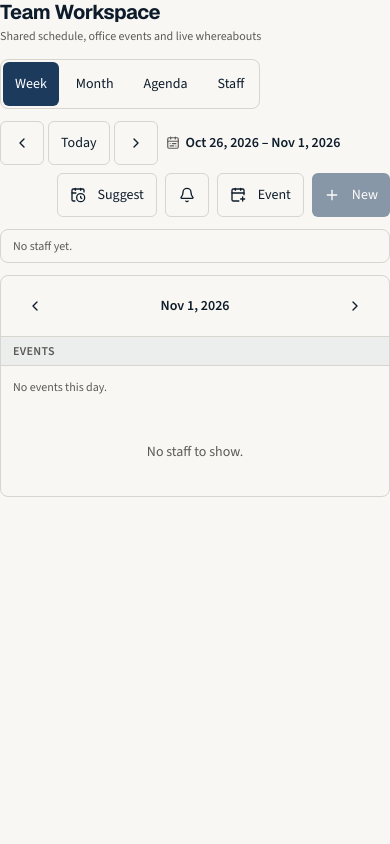
Scenario: TeamWorkspacePage › header Suggest button opens the invite dialog blank for admins/workers
Click the button with aria-label "Suggest a schedule".
click(107, 194)  # box [56, 172, 157, 216]
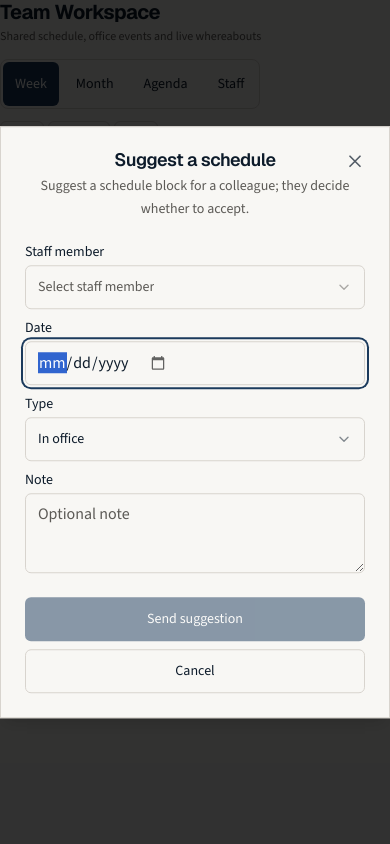
Check: the heading "Suggest a schedule" is shown, box [114, 148, 276, 171]
Check: the dropdown labelled "staff member" reads "Select staff member", box [25, 265, 365, 309]
Check: the date field labelled "Date" is empty, box [25, 341, 365, 385]
